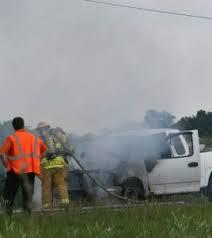smoke: (32, 67, 180, 200)
